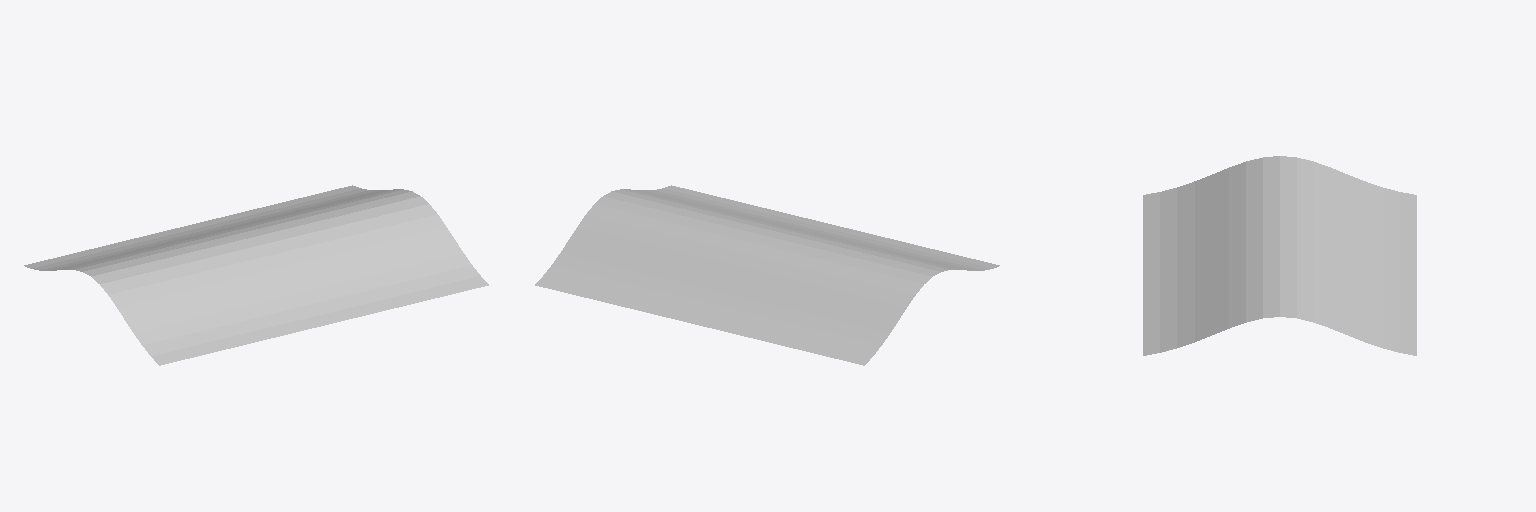
Rendered from Olas12.obj.
3 renders of one model, left to right at view 1: azimuth 30°, elevation 25°; view 2: azimuth 150°, elevation 25°; view 3: azimuth 270°, elevation 25°, orthographic.
Parts seen in each view (by area): view 1: Plane; view 2: Plane; view 3: Plane.
Boxes of the visible parts, <box> form: Plane: <box>24,185,488,365</box>; Plane: <box>535,185,999,365</box>; Plane: <box>1143,156,1416,355</box>.
Size of the model in its own units: 13.82 by 1.57 by 9.91.